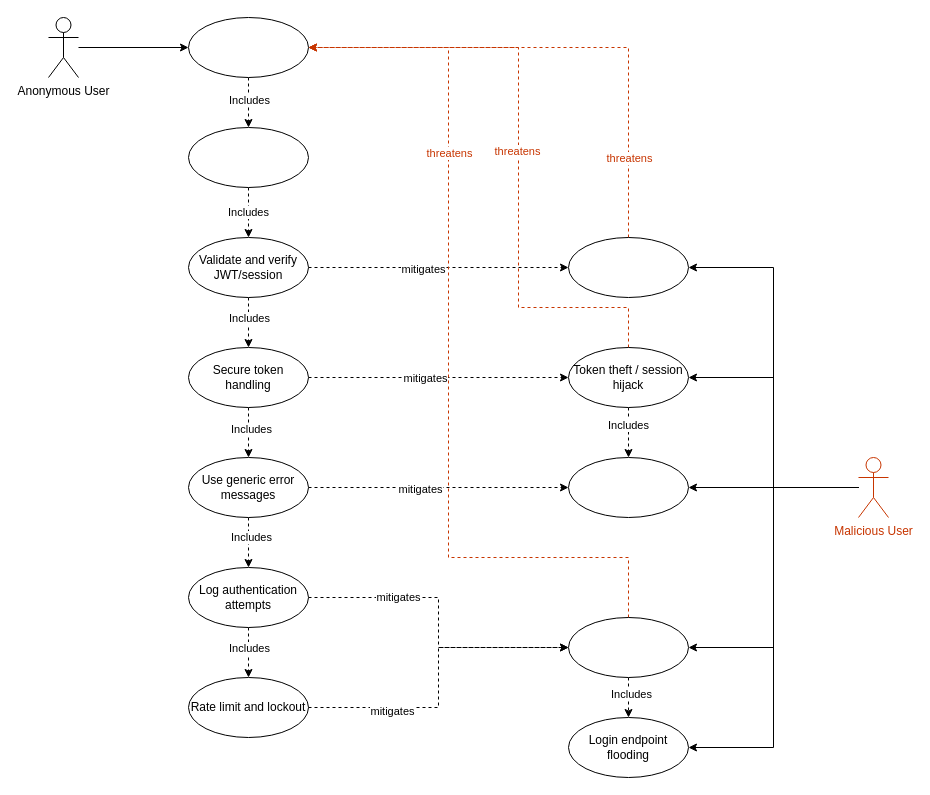
The diagram is 930 pixels wide and 795 high, and some of its shapes have lost their labels. The box of each missing label's shape, as (x1, y1, x2, y2) in pixels:
Account enumeration via verbose errors: (568, 456, 688, 518)
Credential stuffing and brute-force: (568, 616, 688, 678)
Enforce HTTPS: (188, 126, 308, 188)
Forged or expired token abuse: (568, 236, 688, 298)
Submit credentials: (188, 16, 308, 78)
